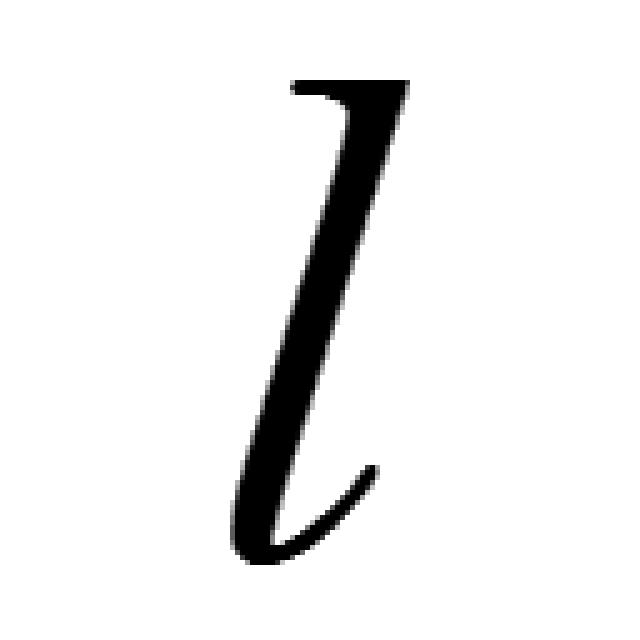L: (228, 66, 410, 564)
